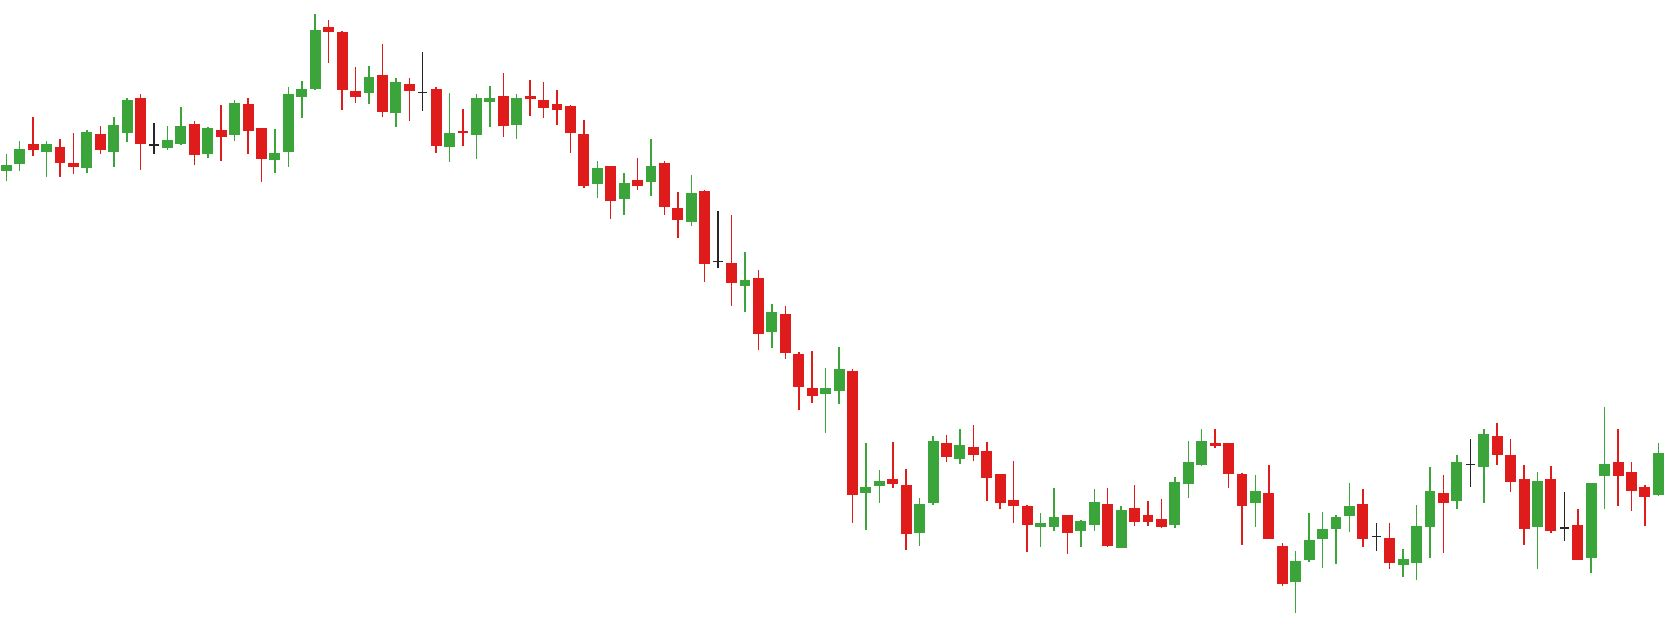buy: (1101, 471, 1317, 618), (184, 114, 280, 187)
sell: (1472, 405, 1623, 525)
